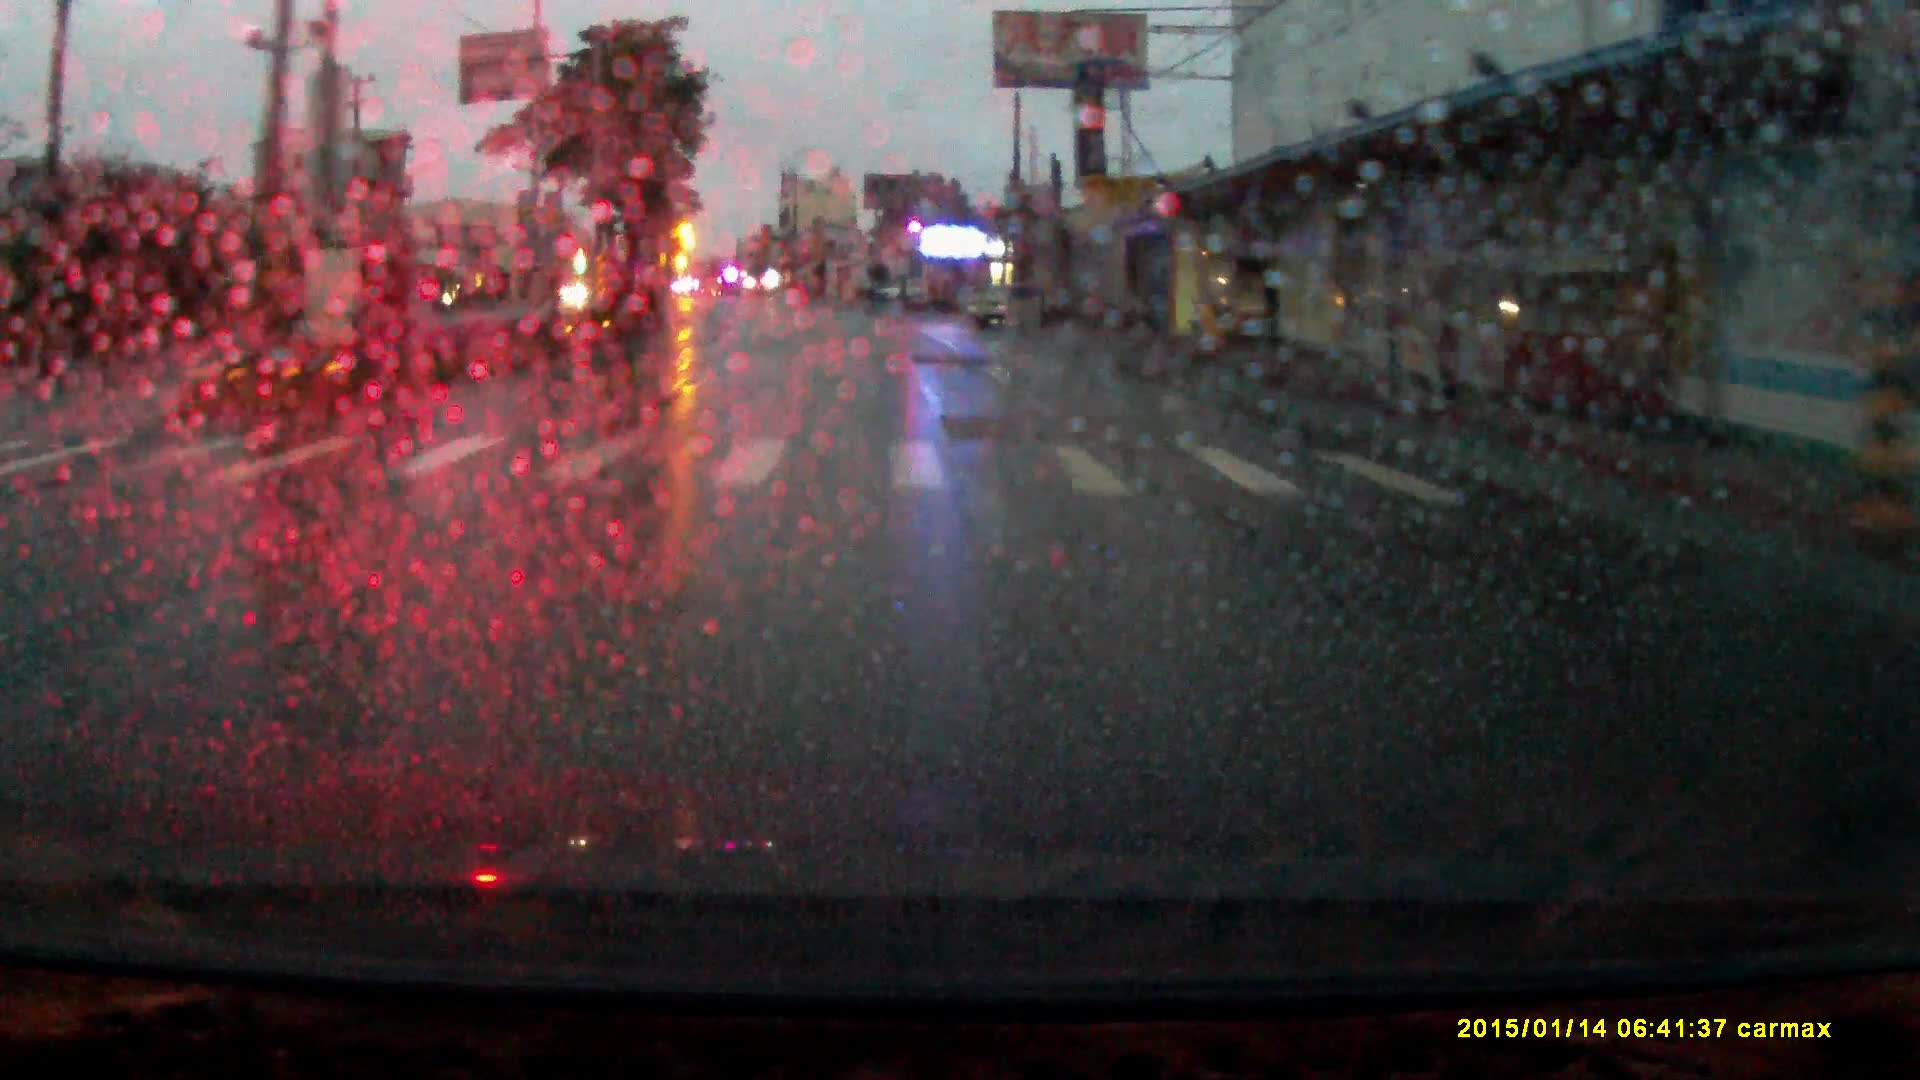vehicle: (964, 285, 1054, 335)
